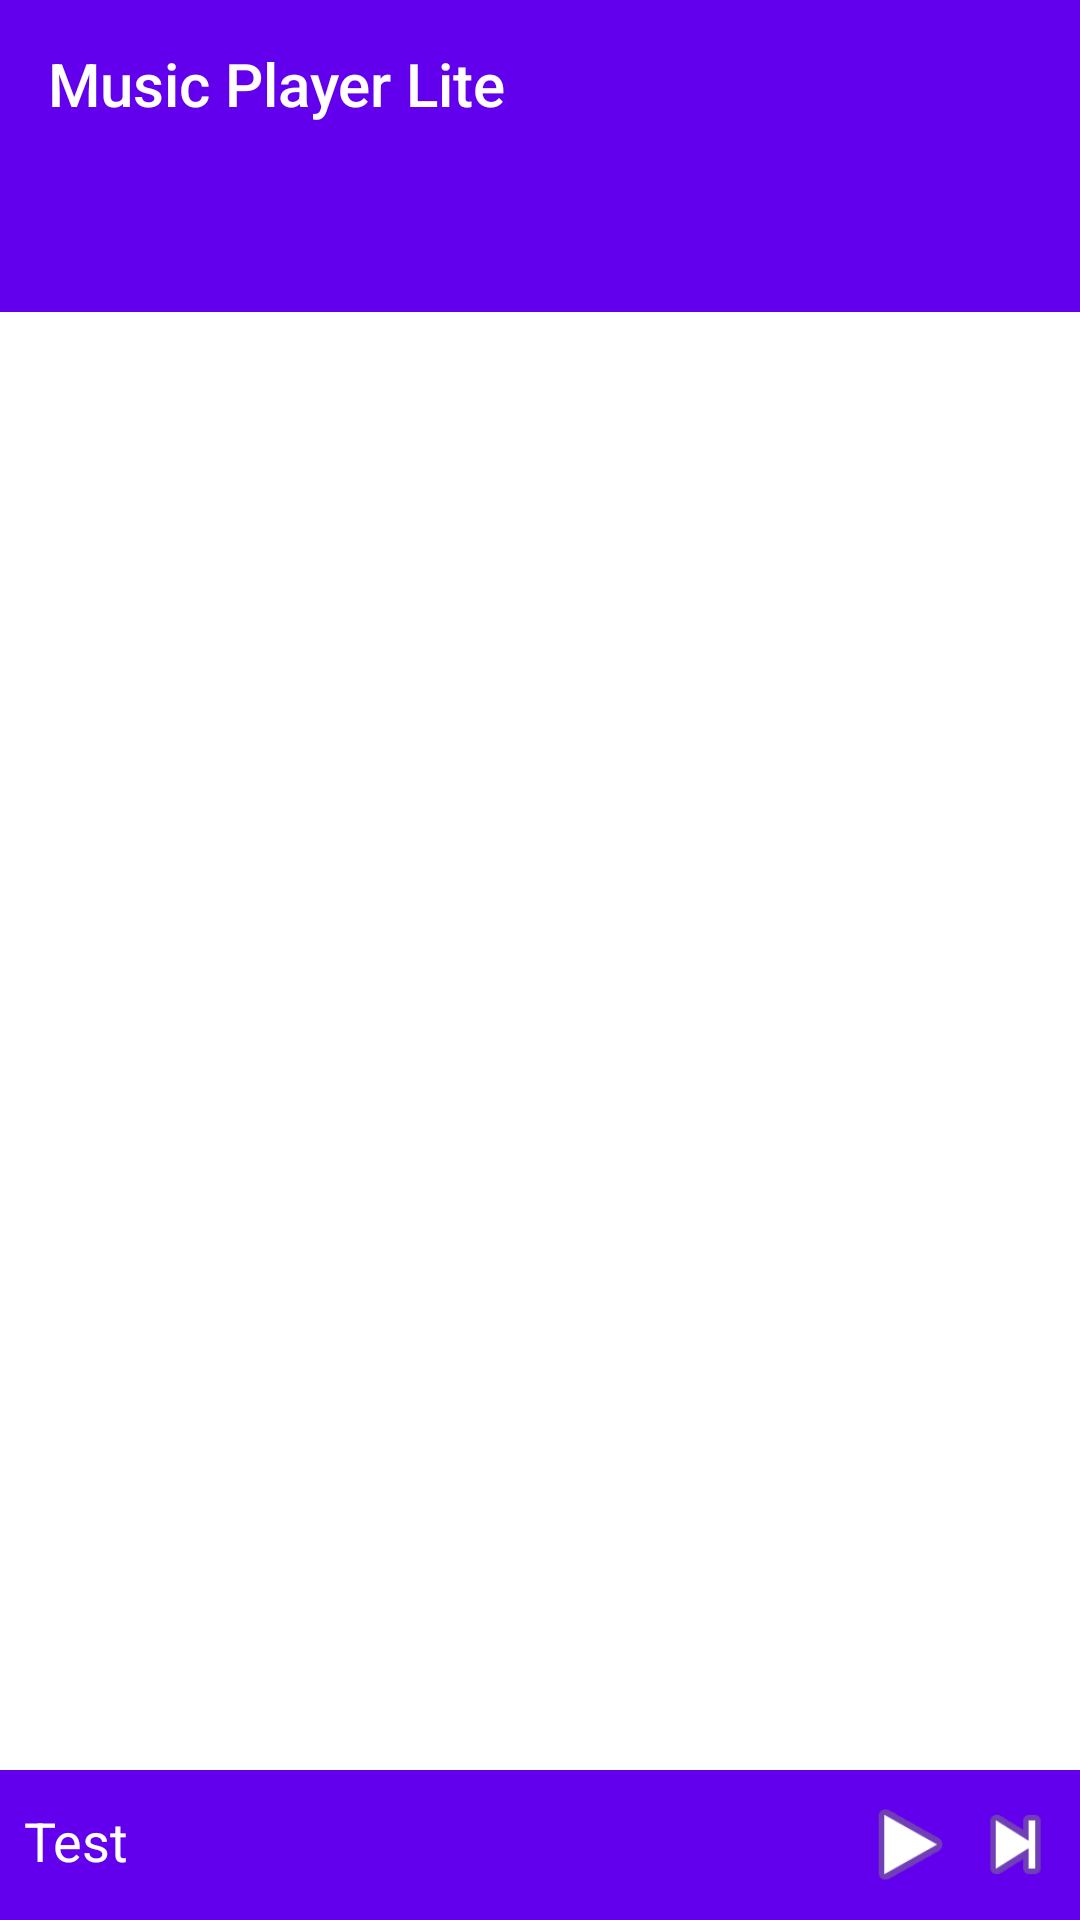

Where to tap for icons on this 1080 x 1920 app screen, as (x=x, y=y):
next: (x=1015, y=1844)
play: (x=910, y=1844)
